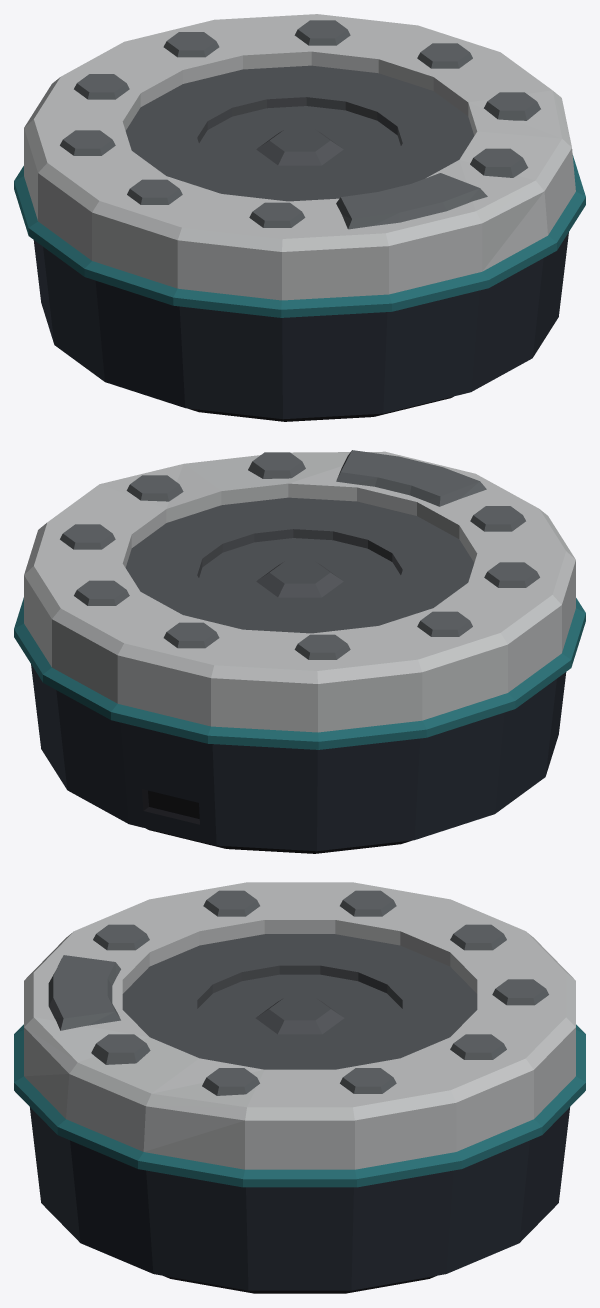
The model's file is router.glb.
The picture shows the model from 3 angles, top to bottom: view 1: azimuth 30°, elevation 25°; view 2: azimuth 150°, elevation 25°; view 3: azimuth 270°, elevation 25°; orthographic projection.
Parts seen in each view (by area): view 1: speakerphone-puck; view 2: speakerphone-puck; view 3: speakerphone-puck.
Boxes of the visible parts, x1,y1,x2,y2 form: speakerphone-puck: (14,14,585,421); speakerphone-puck: (14,450,585,853); speakerphone-puck: (14,882,585,1293).
Size of the model in its own units: 0.2 by 0.0811 by 0.2.
